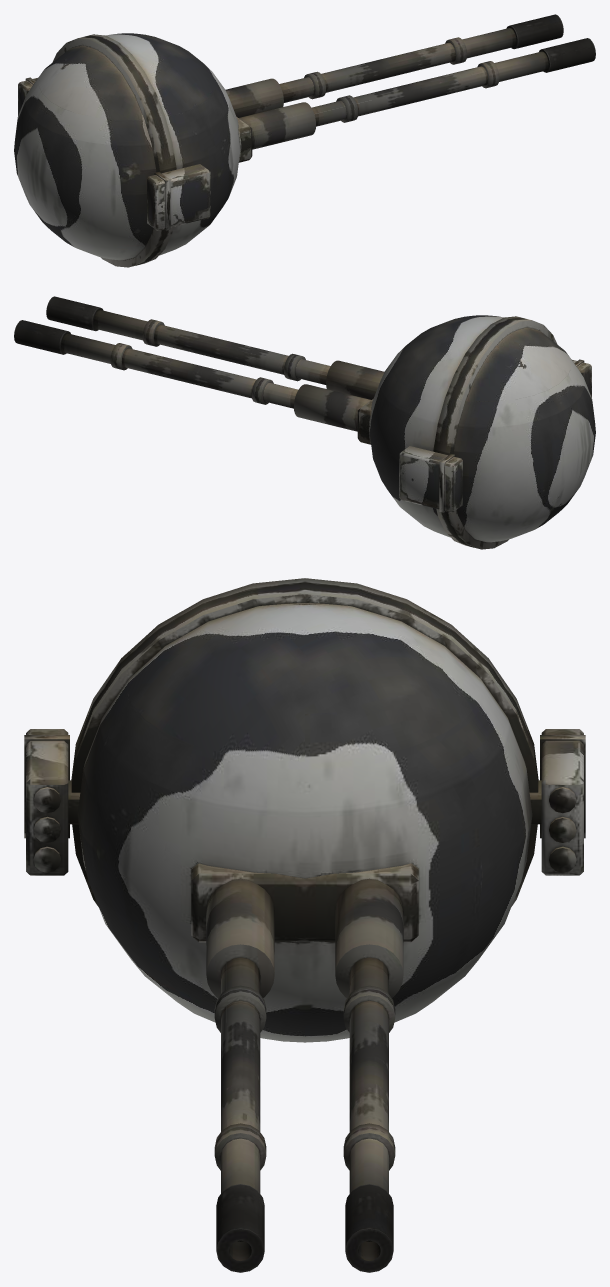
The model's file is turret_kit_tail_ball_t1_arctic_tiger.glb.
The picture shows the model from 3 angles, top to bottom: view 1: azimuth 30°, elevation 25°; view 2: azimuth 150°, elevation 25°; view 3: azimuth 270°, elevation 25°; orthographic projection. The views are drawn at different scales.
Visible parts, largest first — view 1: turret_tail_ball_t1, pods; view 2: turret_tail_ball_t1, pods; view 3: turret_tail_ball_t1, pods.
Boxes of the visible parts, <box> form: turret_tail_ball_t1: <box>14,14,595,267</box>; pods: <box>18,77,210,230</box>; turret_tail_ball_t1: <box>14,296,595,549</box>; pods: <box>399,359,591,512</box>; turret_tail_ball_t1: <box>71,578,538,1272</box>; pods: <box>24,729,585,875</box>.
Bounding box in the file's own units: 1.66 × 0.62 × 0.7402.
Materials: 2 (2 with a texture image).
